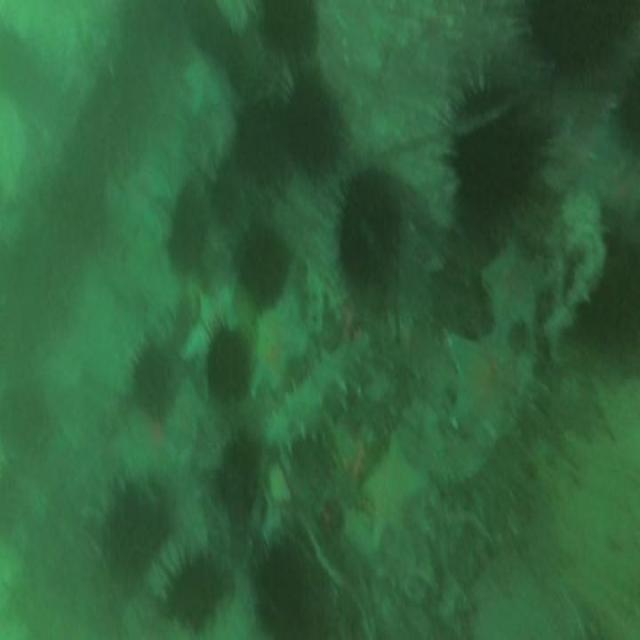echinus: (454, 96, 529, 223), (340, 172, 399, 282), (538, 3, 626, 71), (101, 493, 158, 580), (284, 87, 342, 169), (259, 553, 311, 637), (234, 106, 284, 186), (161, 560, 216, 622), (262, 3, 318, 63), (239, 229, 286, 300), (130, 346, 176, 416), (207, 332, 252, 401), (170, 188, 207, 270), (220, 438, 256, 507), (212, 166, 246, 218)
holothurian: (268, 334, 367, 455)
starfish: (444, 321, 534, 438), (364, 441, 423, 547), (482, 244, 551, 330), (249, 289, 307, 378)
